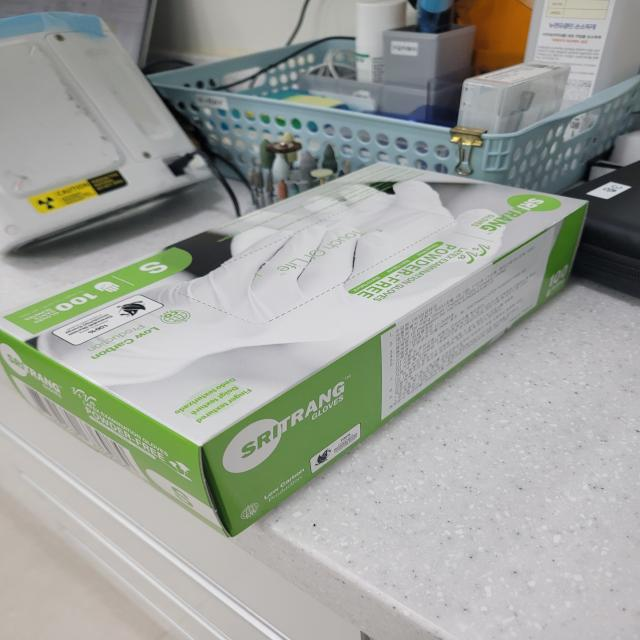glove: (0, 141, 607, 548)
